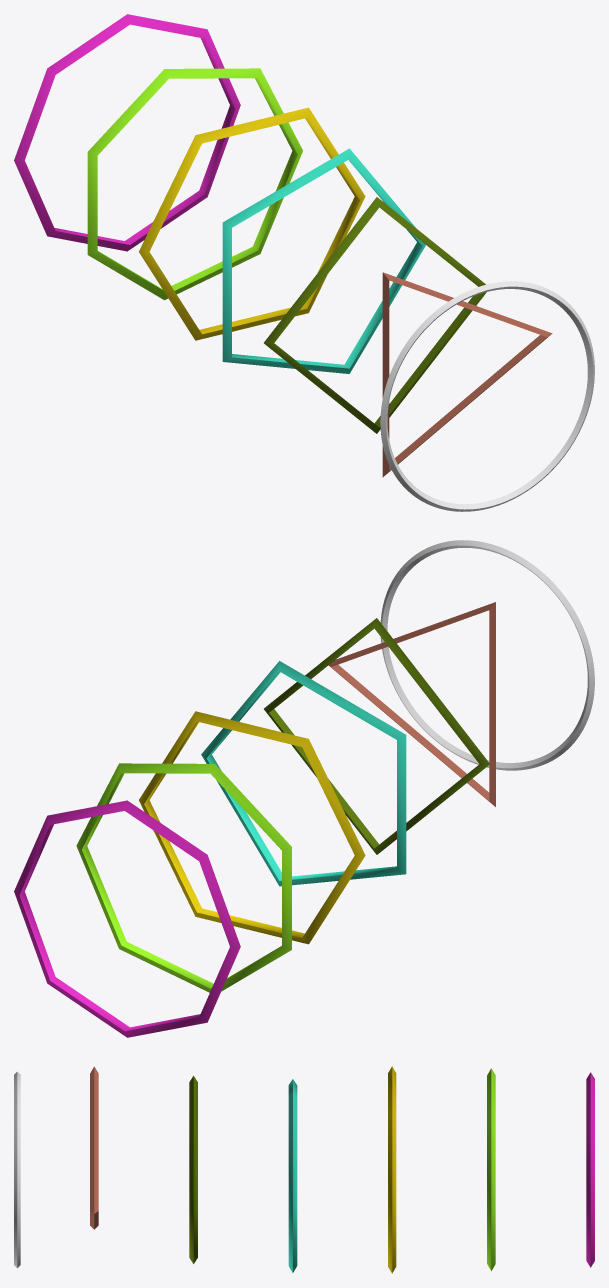
File: Rings3D.fbx
3 renders of one model, top to bottom at view 1: azimuth 30°, elevation 25°; view 2: azimuth 150°, elevation 25°; view 3: azimuth 270°, elevation 25°, orthographic. The views are drawn at different scales.
Parts seen in each view (by area): view 1: Ring_Octagon, Ring_Septagon, Ring_Hexagon, Ring_Pentagon, Ring_Circle, Ring_Diamond, Ring_Triangle; view 2: Ring_Octagon, Ring_Septagon, Ring_Hexagon, Ring_Pentagon, Ring_Circle, Ring_Diamond, Ring_Triangle; view 3: Ring_Pentagon, Ring_Hexagon, Ring_Septagon, Ring_Octagon, Ring_Diamond, Ring_Triangle, Ring_Circle.
Part boxes in pixels (x1,y1,x2,y2): Ring_Octagon: (14,14,240,251); Ring_Septagon: (87,68,302,300); Ring_Hexagon: (139,107,365,340); Ring_Pentagon: (222,148,425,373); Ring_Circle: (380,281,594,511); Ring_Diamond: (264,197,486,433); Ring_Triangle: (382,272,552,477); Ring_Octagon: (14,800,240,1037); Ring_Septagon: (76,763,291,992); Ring_Hexagon: (139,711,365,944); Ring_Pentagon: (201,661,406,886); Ring_Circle: (380,540,594,770); Ring_Diamond: (264,618,489,854); Ring_Triangle: (328,602,495,806); Ring_Pentagon: (288,1079,297,1272); Ring_Hexagon: (388,1066,396,1273); Ring_Septagon: (487,1068,495,1270); Ring_Octagon: (586,1072,594,1267); Ring_Diamond: (189,1076,197,1263); Ring_Triangle: (90,1066,98,1229); Ring_Circle: (14,1071,20,1268).
Size of the model in its own units: 2100 by 2100 by 5853.
